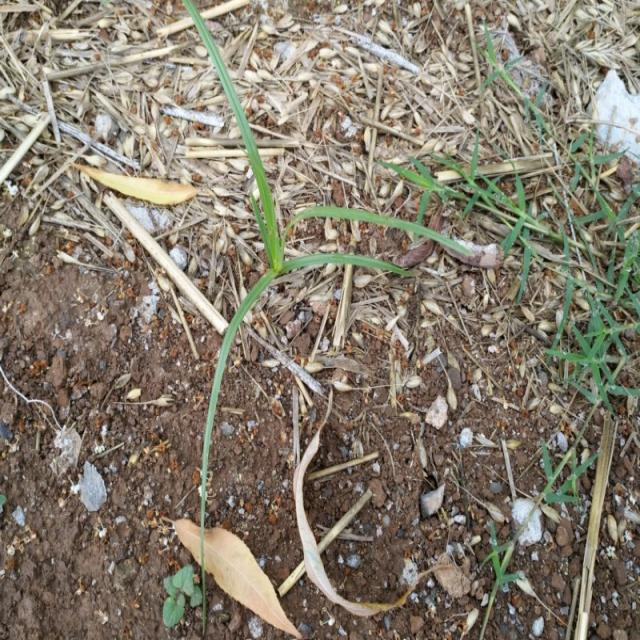sedge: (126, 30, 468, 449)
